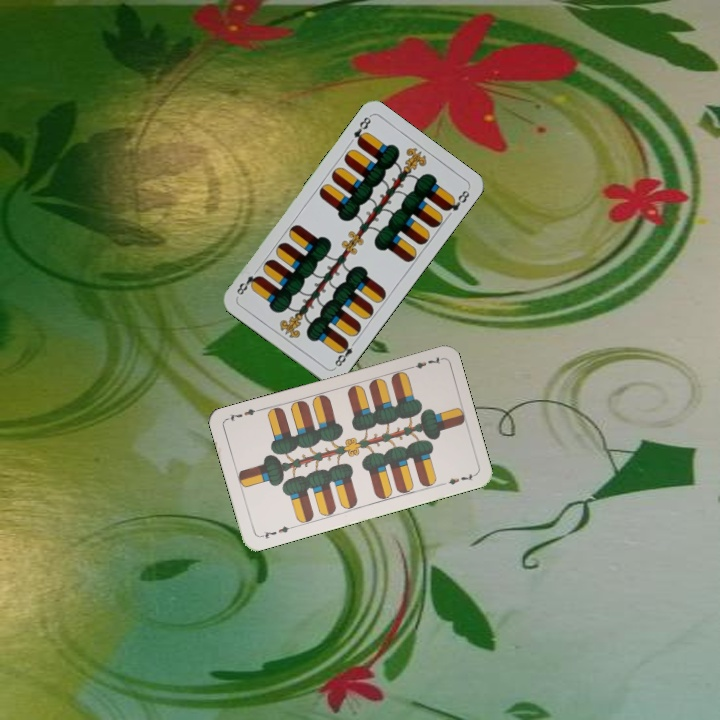E7: (256, 522, 296, 541), (404, 353, 444, 372)
E8: (330, 336, 359, 371), (349, 112, 374, 148)
